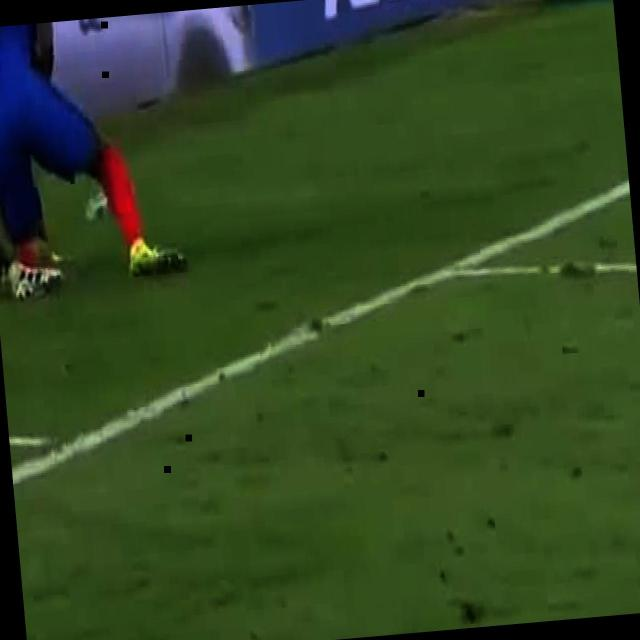player-white: (0, 13, 188, 293), (0, 24, 63, 318)
